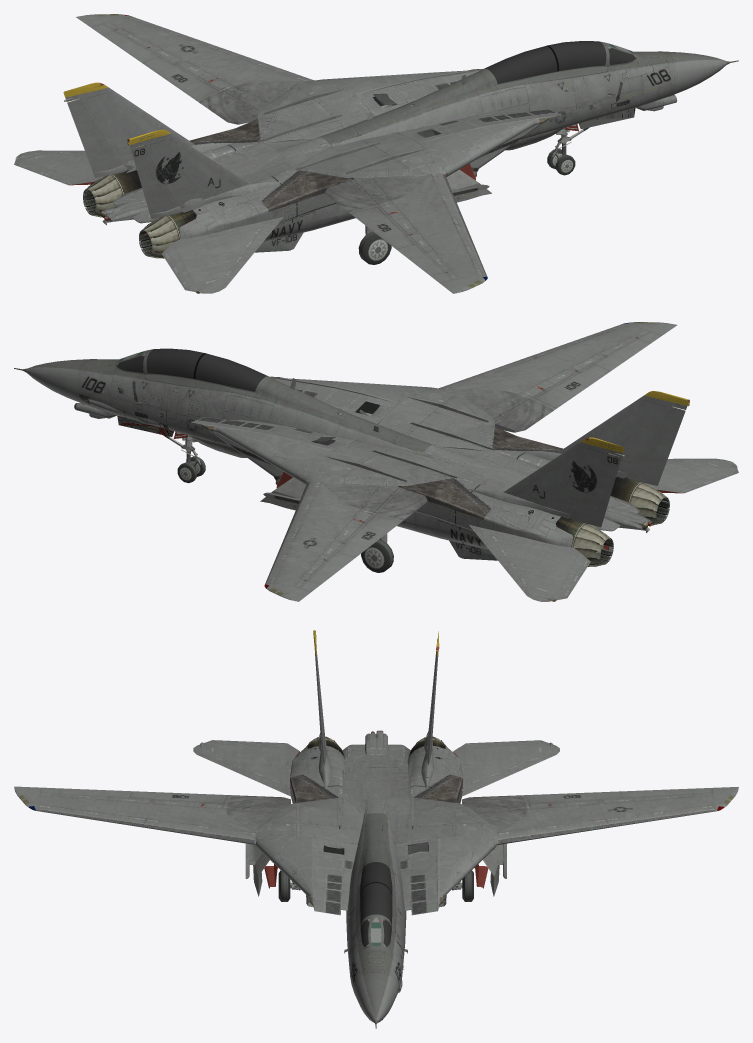
File: f-14_tomcat_top_gun_gear_down_downloadable.glb
The picture shows the model from 3 angles, top to bottom: view 1: azimuth 30°, elevation 25°; view 2: azimuth 150°, elevation 25°; view 3: azimuth 270°, elevation 25°; orthographic projection. The views are drawn at different scales.
Visible parts, largest first — view 1: Object_3, Object_2; view 2: Object_3, Object_2; view 3: Object_3.
Part boxes in pixels (x1,y1,x2,y2): Object_3: (14,14,738,293); Object_2: (83,90,635,256); Object_3: (14,322,738,601); Object_2: (117,409,668,564); Object_3: (14,630,738,1028).
Size of the model in its own units: 245 by 62.13 by 250.
1 material, 1 textured.
